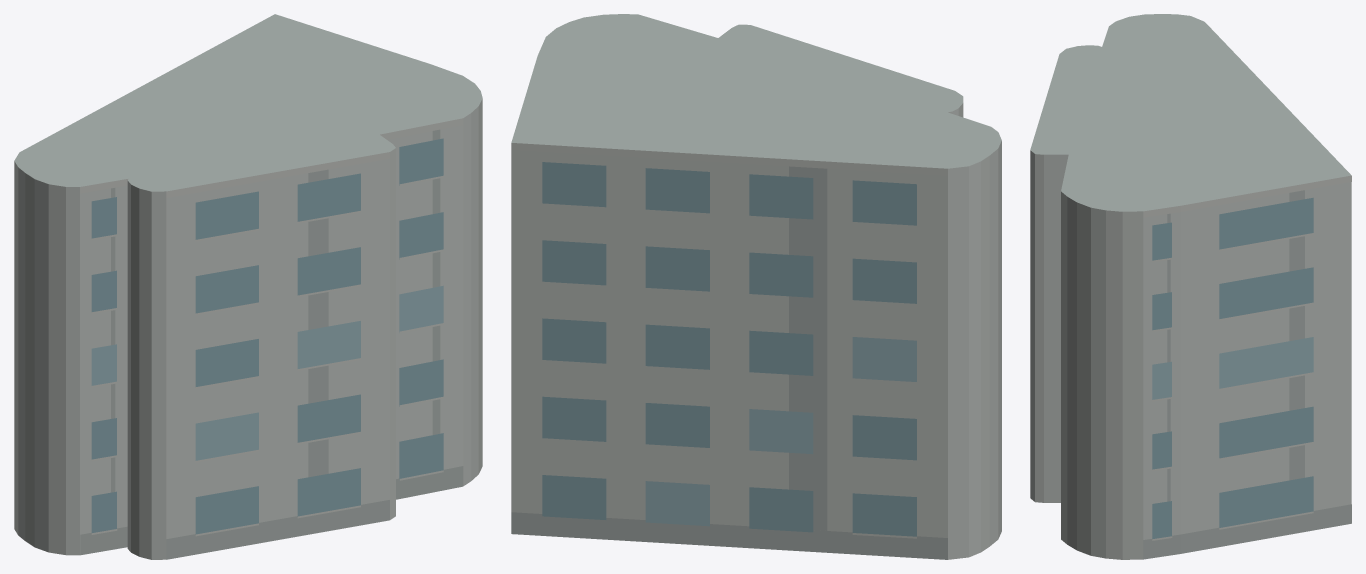
The model's file is survey-upis-32952331.glb.
The picture shows the model from 3 angles, left to right: view 1: azimuth 30°, elevation 25°; view 2: azimuth 150°, elevation 25°; view 3: azimuth 270°, elevation 25°; orthographic projection. The views are drawn at different scales.
Visible parts, largest first — view 1: survey-upis-32952331.tmp; view 2: survey-upis-32952331.tmp; view 3: survey-upis-32952331.tmp.
Boxes of the visible parts, x1,y1,x2,y2 form: survey-upis-32952331.tmp: (14,14,482,559); survey-upis-32952331.tmp: (511,14,1001,559); survey-upis-32952331.tmp: (1030,14,1351,559).
Size of the model in its own units: 16.21 by 13.3 by 11.14.
